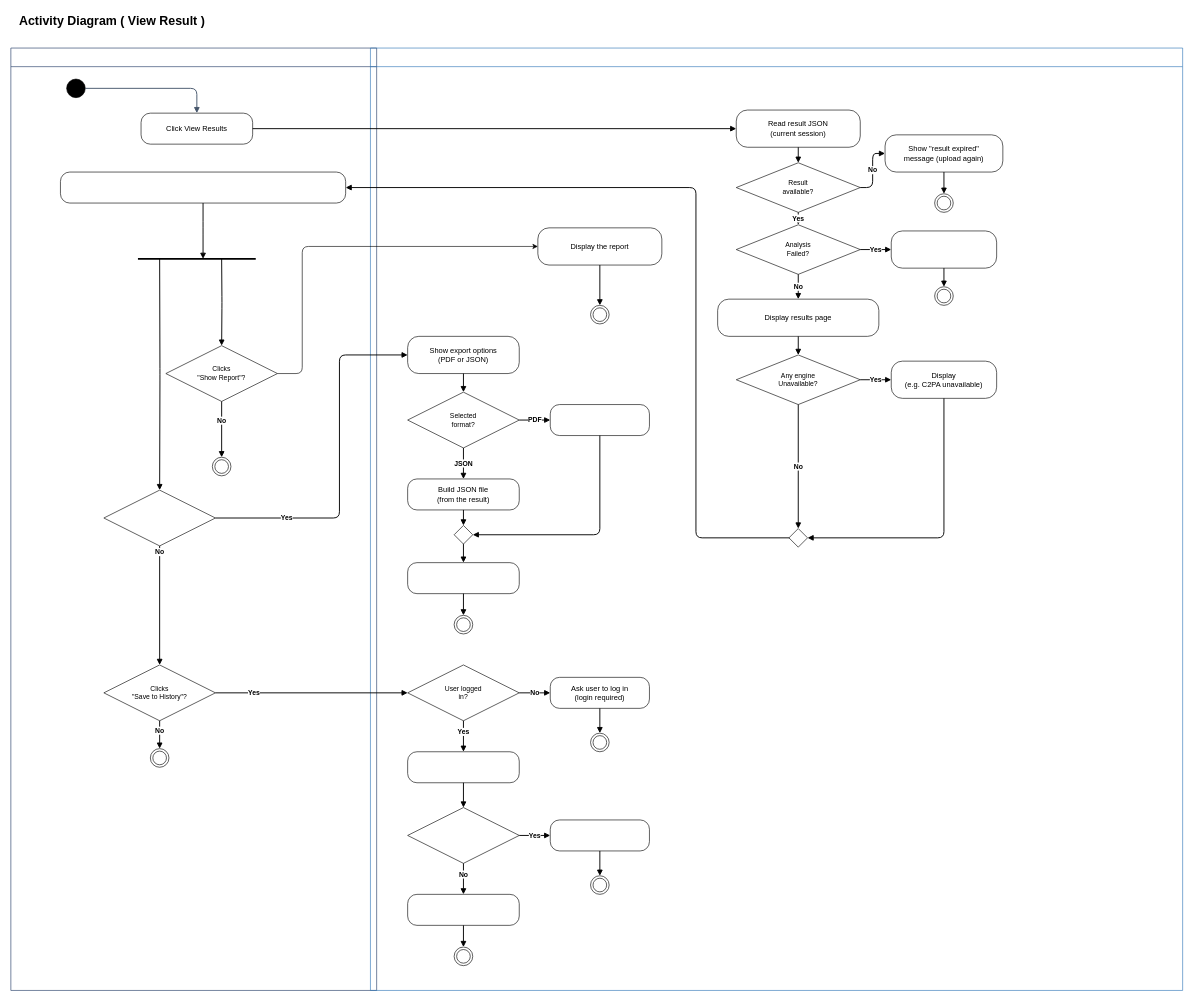
Image size: 1194x1001. Some labels were removed from this diagram. Each missing label, with the centre of its shape:
Clicks "Export Result"?: [159,517]
Display failure message (no Trust Score): [944,249]
Download the file (browser download): [463,578]
Generate PDF (from the result): [599,420]
Save succeeded?: [463,835]
Save to history (stored in database): [463,767]
Show confirmation (saved to history): [599,835]
Show error message (try again): [463,909]
Show result: [203,187]
